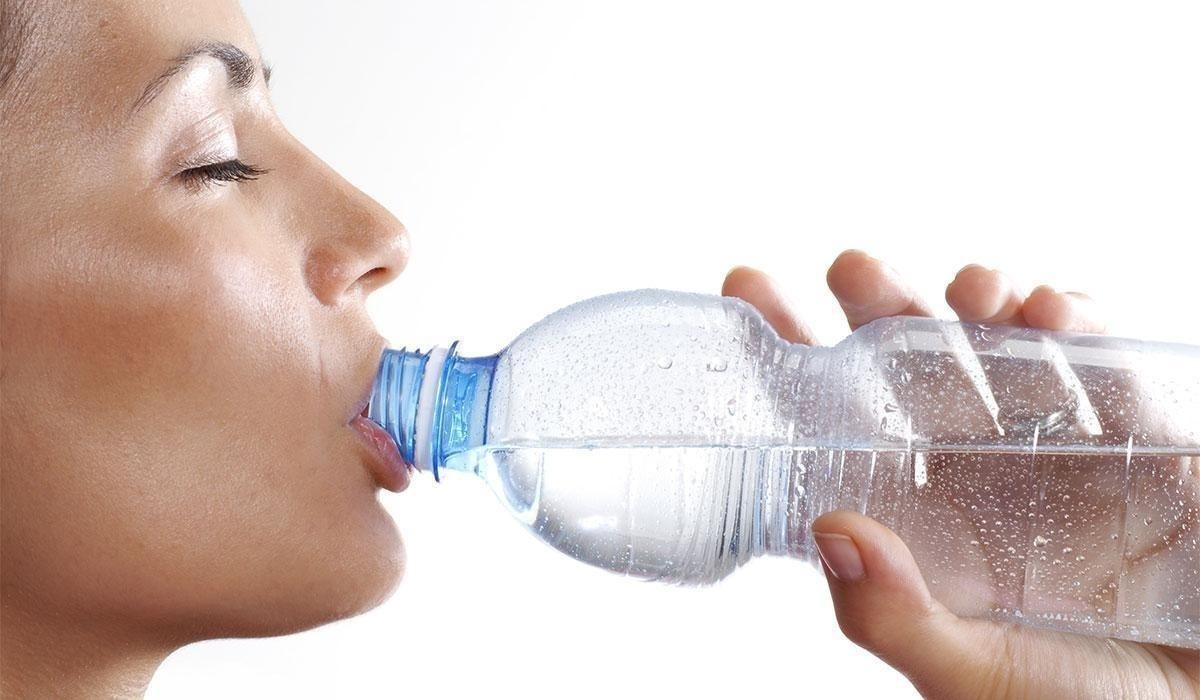bottle-plastic: (374, 281, 1199, 655)
